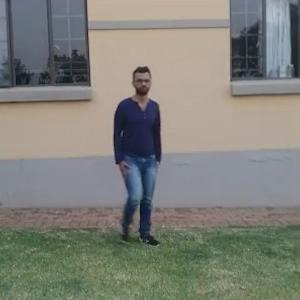follow: (112, 66, 163, 240)
